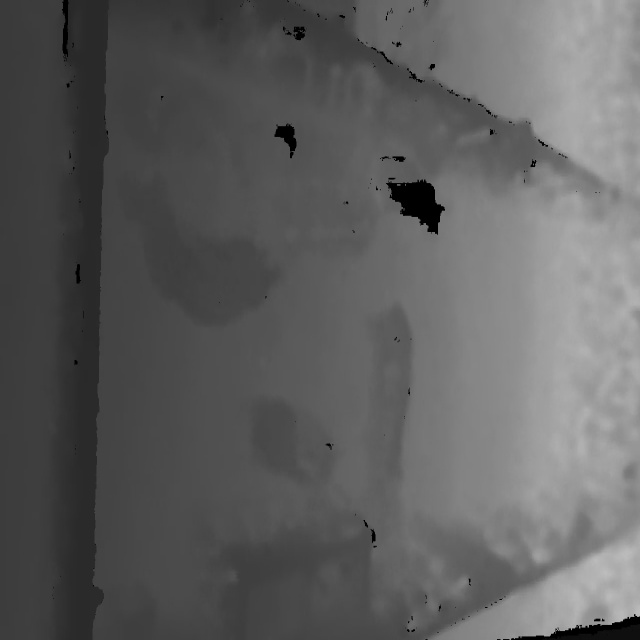pig: (100, 100, 300, 300)
